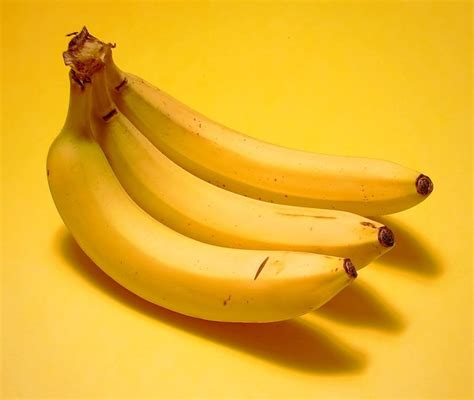banana: (41, 122, 359, 336), (93, 104, 397, 276), (113, 68, 438, 220)
